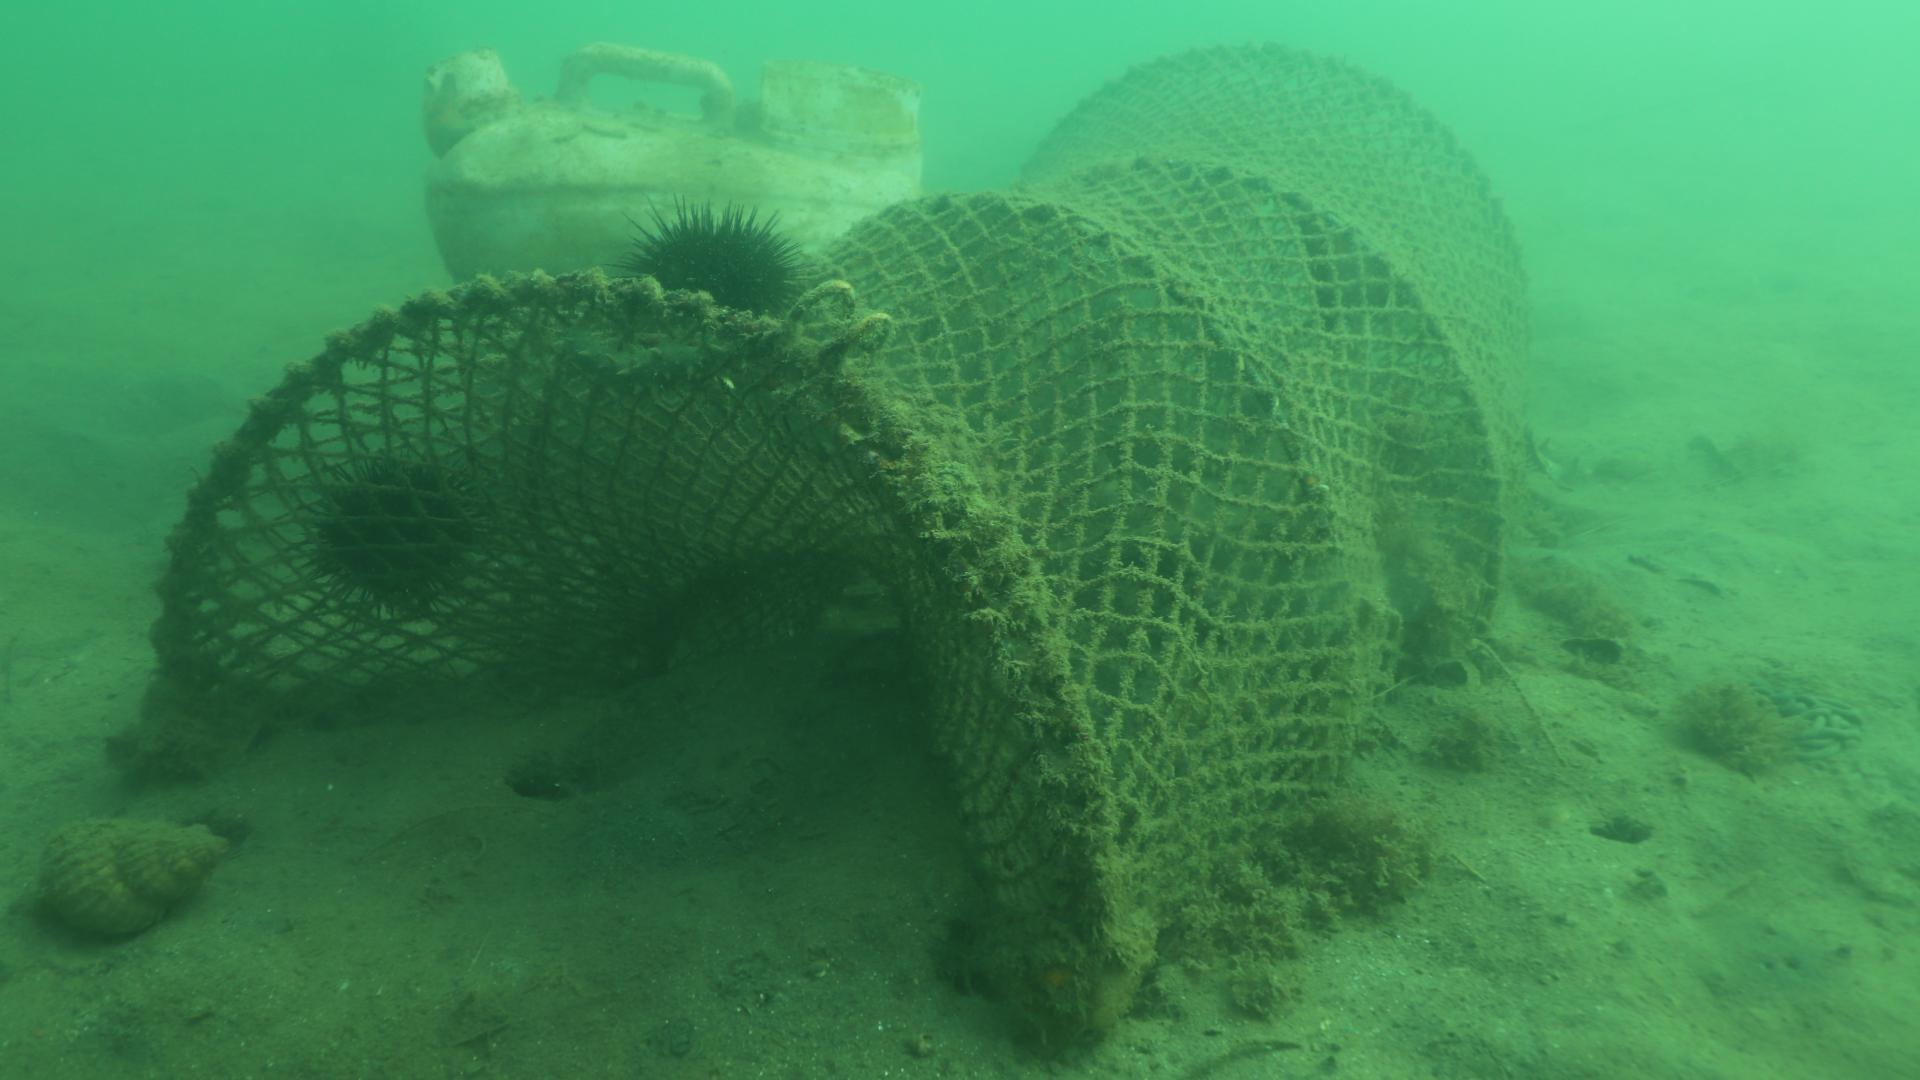spring fish trap: (146, 40, 1538, 1036)
